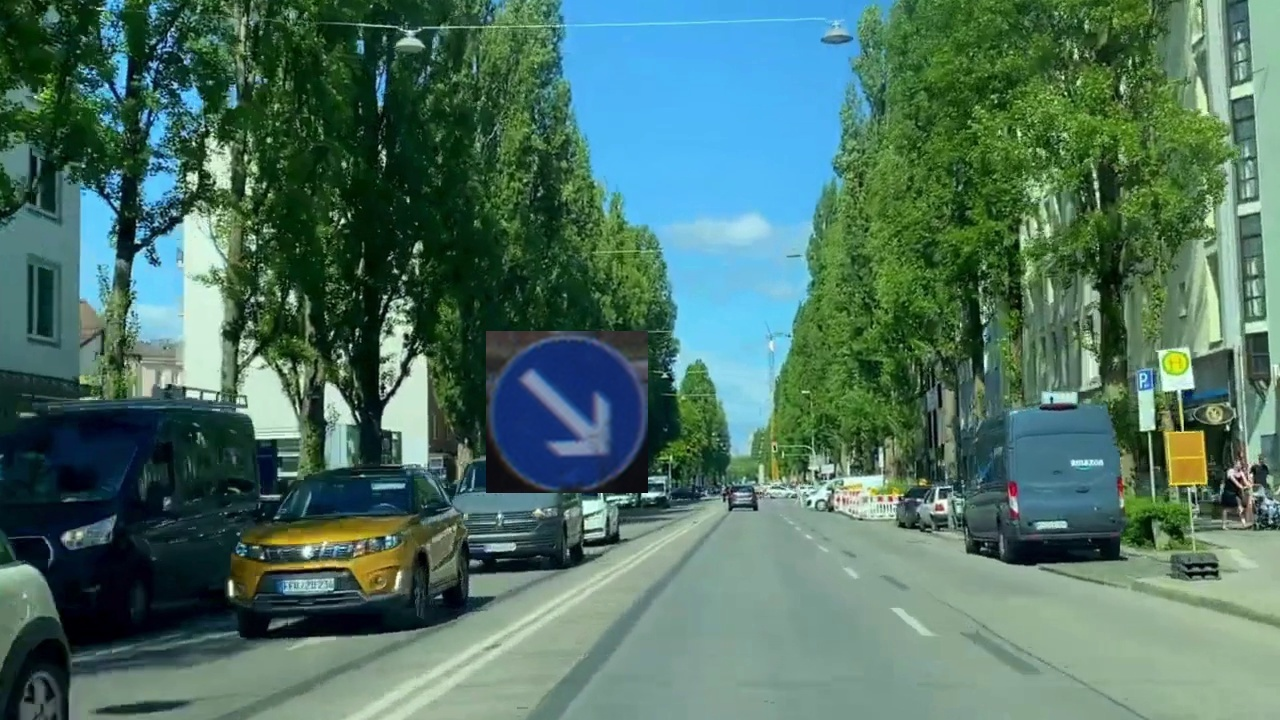Keep right: (486, 331, 648, 493)
